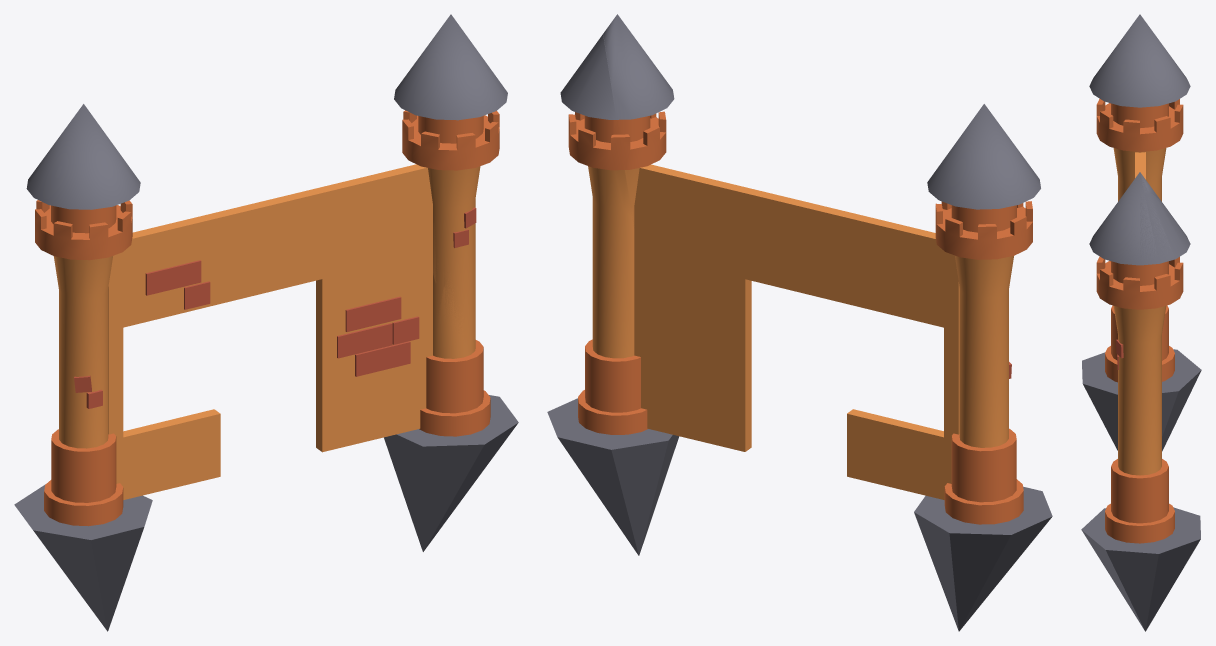
The model's file is LEFTCastleFractured.fbx.
3 renders of one model, left to right at view 1: azimuth 30°, elevation 25°; view 2: azimuth 150°, elevation 25°; view 3: azimuth 270°, elevation 25°, orthographic. The views are drawn at different scales.
Parts seen in each view (by area): view 1: Cube.003, Circle.001, Circle.001_cell.008, Circle.001_cell.004, Circle.001_cell.006, Cube.003_cell.007, Circle.001_cell.002; view 2: Cube.003, Circle.001, Circle.001_cell.008, Circle.001_cell.006, Circle.001_cell.004, Cube.003_cell.001, Cube.003_cell.007; view 3: Circle.001, Circle.001_cell.008, Circle.001_cell.004, Circle.001_cell.006, Cube.003.
Boxes of the visible parts, bbox=[...] form: Cube.003: bbox=[108, 164, 432, 486]; Circle.001: bbox=[14, 14, 517, 631]; Circle.001_cell.008: bbox=[419, 111, 499, 436]; Circle.001_cell.004: bbox=[384, 395, 518, 551]; Circle.001_cell.006: bbox=[394, 15, 494, 285]; Cube.003_cell.007: bbox=[116, 463, 180, 499]; Circle.001_cell.002: bbox=[388, 432, 463, 478]; Cube.003: bbox=[634, 164, 959, 499]; Circle.001: bbox=[547, 15, 1052, 631]; Circle.001_cell.008: bbox=[560, 34, 647, 434]; Circle.001_cell.006: bbox=[603, 14, 666, 226]; Circle.001_cell.004: bbox=[547, 399, 671, 553]; Cube.003_cell.001: bbox=[847, 409, 924, 473]; Cube.003_cell.007: bbox=[915, 378, 958, 451]; Circle.001: bbox=[1081, 14, 1201, 631]; Circle.001_cell.008: bbox=[1105, 194, 1190, 542]; Circle.001_cell.004: bbox=[1083, 507, 1200, 631]; Circle.001_cell.006: bbox=[1096, 172, 1169, 278]; Cube.003: bbox=[1135, 152, 1145, 179].
Size of the model in its own units: 447 by 470 by 109.
